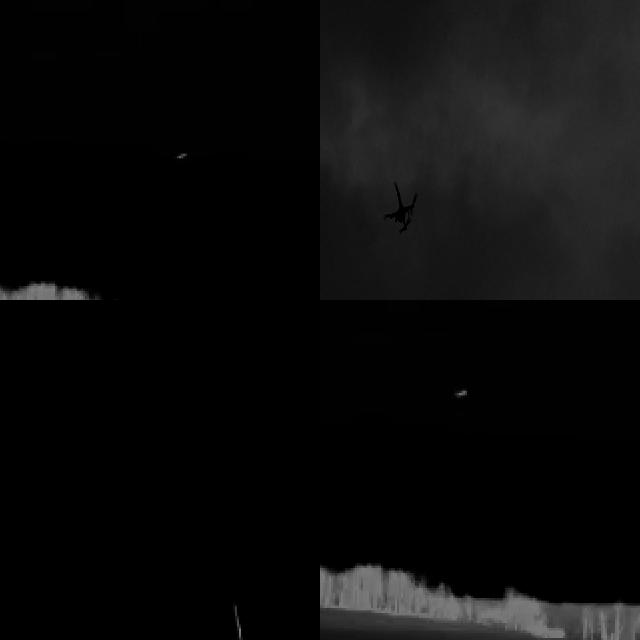1: (444, 380, 478, 416), (166, 144, 198, 178)
drone: (383, 181, 421, 236)
